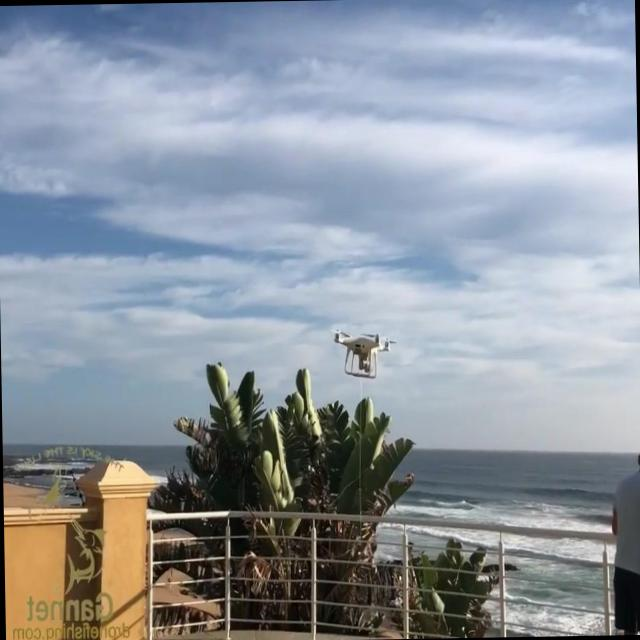drone: (331, 326, 394, 380)
